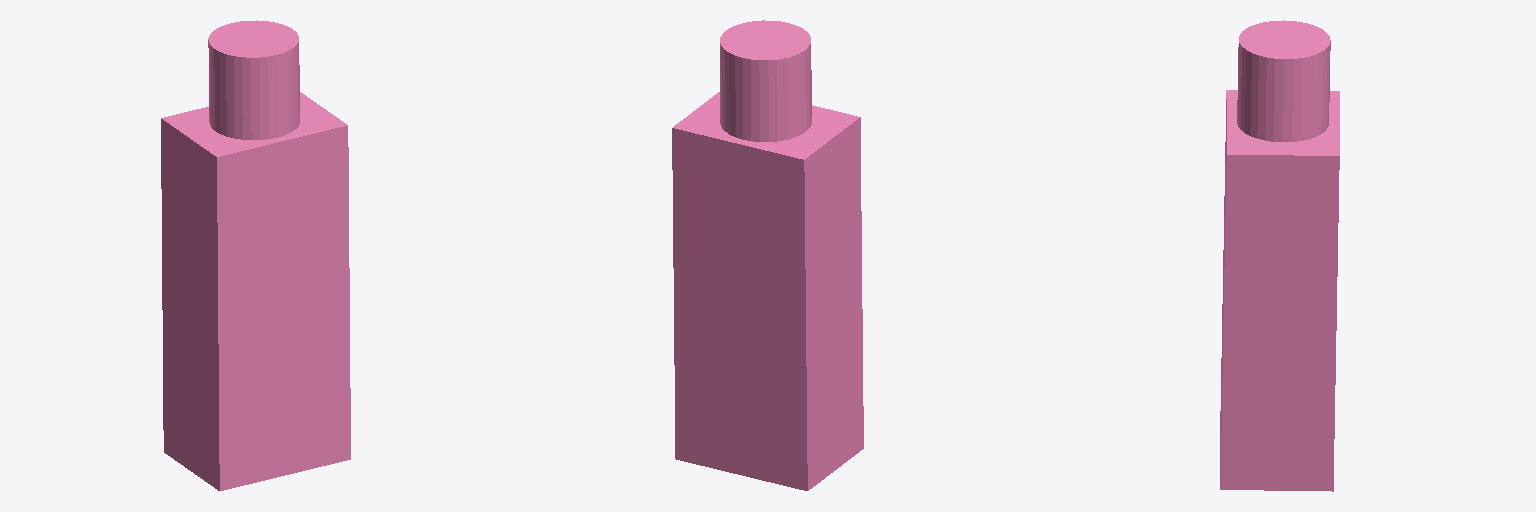
robot.urdf — taskObject1:
<?xml version="1.0"?>
<!-- created with Phobos 1.0.1 "Capricious Choutengan" -->
  <robot name="taskObject1">

    <link name="obj_root">
      <inertial>
        <origin xyz="0 0 0" rpy="0 0 0"/>
        <mass value="0.001"/>
        <inertia ixx="0.001" ixy="0" ixz="0" iyy="0.001" iyz="0" izz="0.001"/>
      </inertial>
      <visual name="object">
        <origin xyz="0 0 0" rpy="-0.00614 0.01569 1.13553"/>
        <geometry>
          <mesh filename="package://taskObject1/meshes/dae/object.dae" scale="1.0 1.0 1.0"/>
        </geometry>
        <material name="$Material_0"/>
      </visual>
      <collision name="object.col">
        <origin xyz="0 0 0" rpy="-0.00614 0.01569 1.13553"/>
        <geometry>
          <mesh filename="package://taskObject1/meshes/dae/object.001.dae" scale="1.0 1.0 1.0"/>
        </geometry>
      </collision>
    </link>

    <material name="$Material_0">
      <color rgba="1.0 0.6 0.8 1.0"/>
    </material>

  </robot>

--- Render facts (derived) ---
Views: 3 orthographic renders of the robot side by side, from view 1: azimuth 30°, elevation 25°; view 2: azimuth 150°, elevation 25°; view 3: azimuth 270°, elevation 25°.
Robot: taskObject1 — 1 links, 0 joints (none); root link obj_root; default pose: all joints at 0.
Links seen in each view (by area): view 1: obj_root; view 2: obj_root; view 3: obj_root.
Link boxes in pixels (x1,y1,x2,y2): obj_root: (161,20,350,490); obj_root: (672,20,863,490); obj_root: (1220,20,1339,491).
Size in the robot's own frame: 0.0351 by 0.0272 by 0.1056 metres.
Meshes: 1 distinct files referenced, 1 mesh visuals loaded (1 Collada DAE).